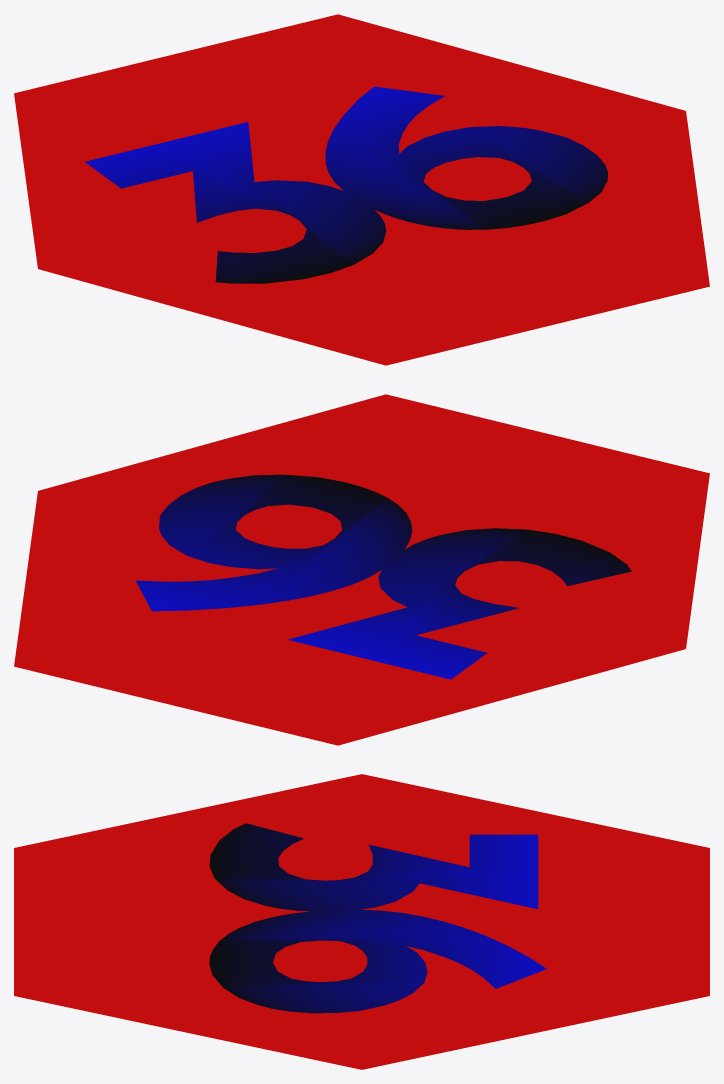
Rendered from SM_Number_36.fbx.
The picture shows the model from 3 angles, top to bottom: view 1: azimuth 30°, elevation 25°; view 2: azimuth 150°, elevation 25°; view 3: azimuth 270°, elevation 25°; orthographic projection. The views are drawn at different scales.
Visible parts, largest first — view 1: FBX_OUT; view 2: FBX_OUT; view 3: FBX_OUT.
Part boxes in pixels (x1=…): FBX_OUT: x1=14, y1=14, x2=709, y2=365; FBX_OUT: x1=14, y1=394, x2=709, y2=745; FBX_OUT: x1=14, y1=774, x2=709, y2=1069.
Bounding box in the file's own units: 50 × 0.2917 × 49.71.
